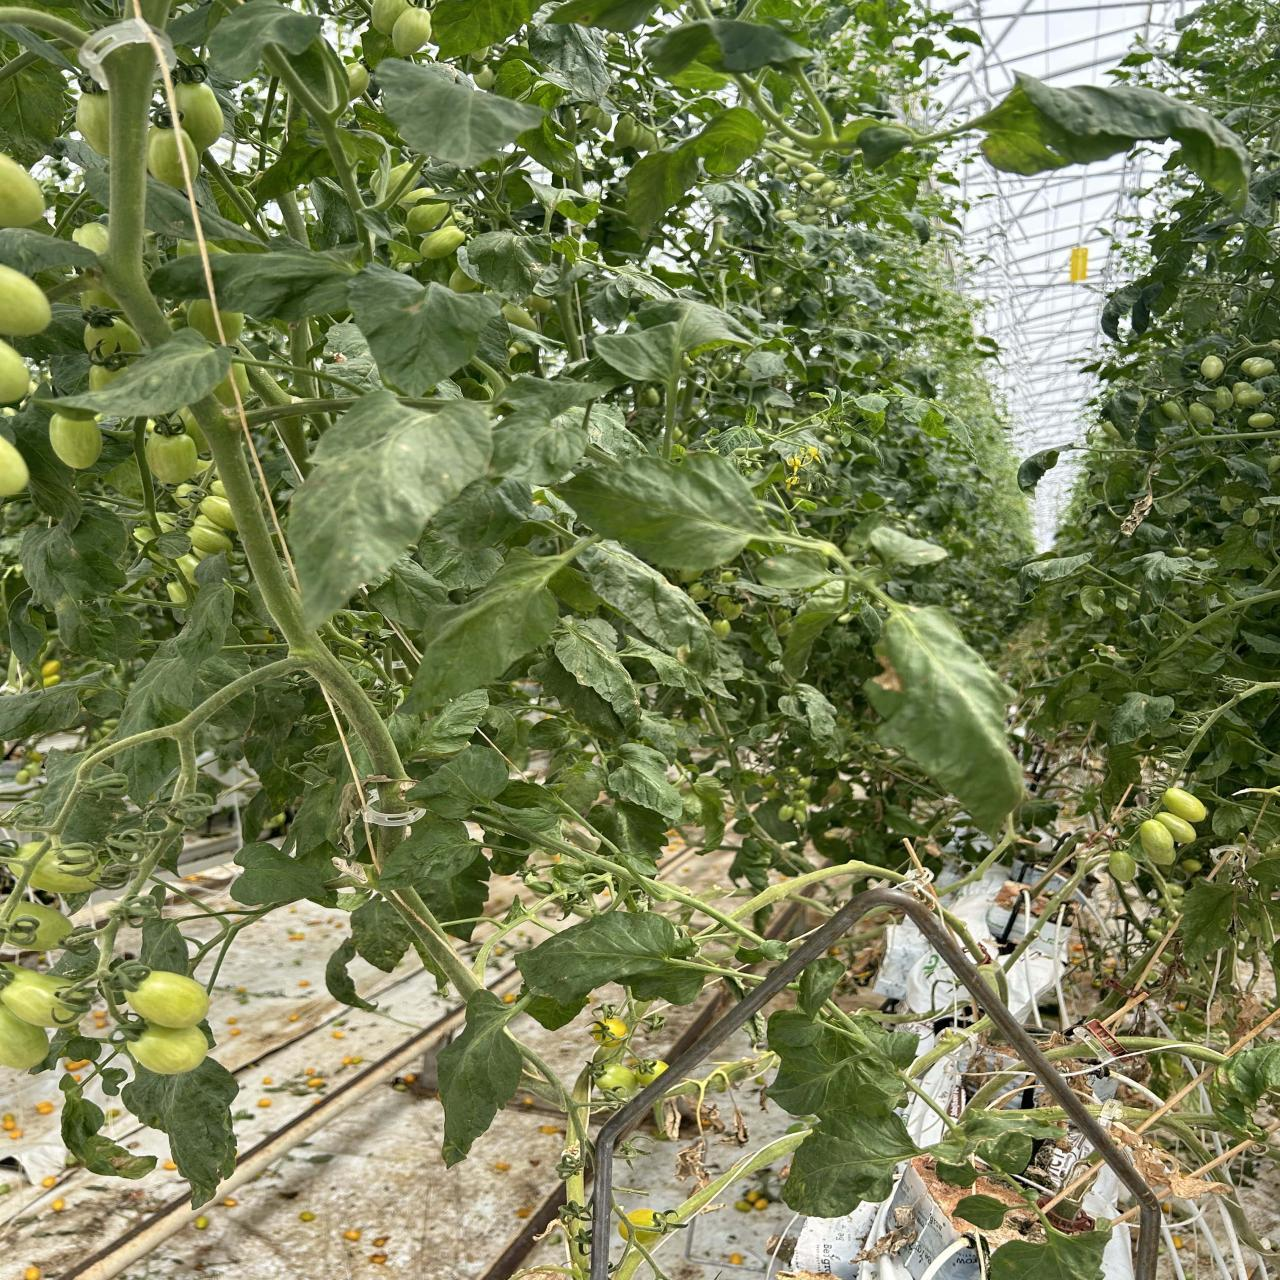Rugose leaf: (866, 602, 1022, 833), (973, 75, 1248, 195), (768, 1000, 919, 1217), (578, 539, 717, 673), (375, 59, 545, 168), (123, 1056, 238, 1206), (55, 328, 231, 418), (552, 619, 639, 724), (388, 690, 489, 761), (350, 896, 413, 972), (326, 938, 376, 1010)
Rugose tomato: (621, 1208, 666, 1244), (590, 1017, 627, 1044)
